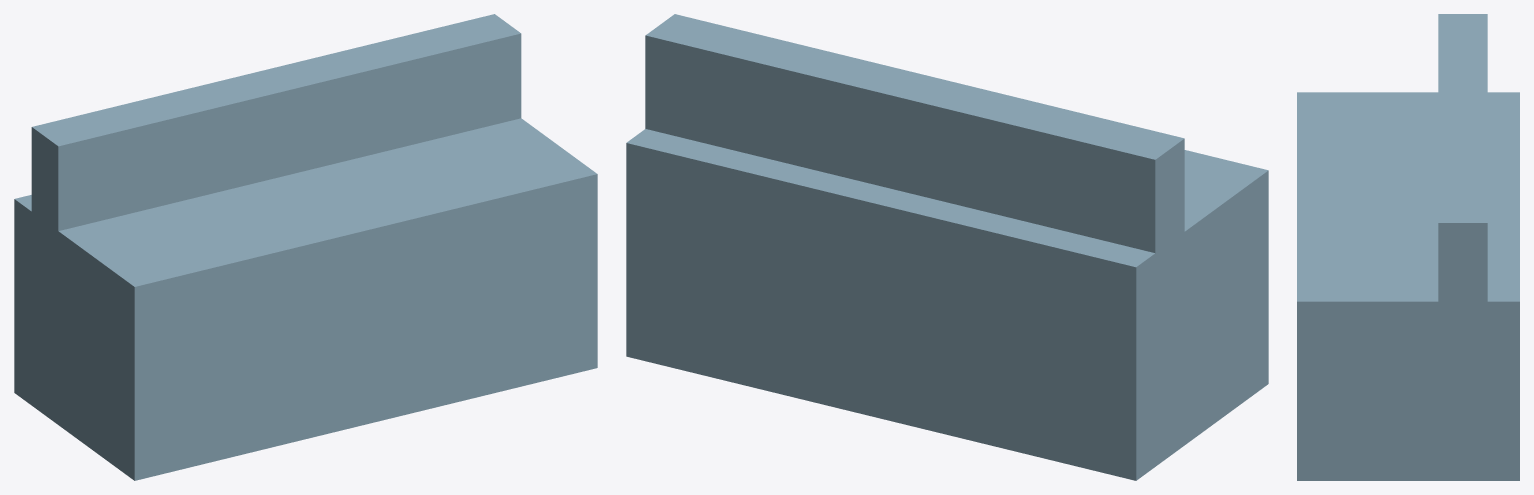
File: sofa_chair.glb
3 renders of one model, left to right at view 1: azimuth 30°, elevation 25°; view 2: azimuth 150°, elevation 25°; view 3: azimuth 270°, elevation 25°, orthographic. The views are drawn at different scales.
Visible parts, largest first — view 1: sofa, back; view 2: sofa, back; view 3: sofa, back.
Boxes of the visible parts, left/top/right/bottom form: sofa: left=14, top=118, right=597, bottom=480; back: left=31, top=14, right=521, bottom=339; sofa: left=626, top=129, right=1268, bottom=480; back: left=645, top=14, right=1184, bottom=370; sofa: left=1297, top=92, right=1519, bottom=480; back: left=1438, top=14, right=1487, bottom=402.
Size of the model in its own units: 2 by 1.15 by 0.9004.
